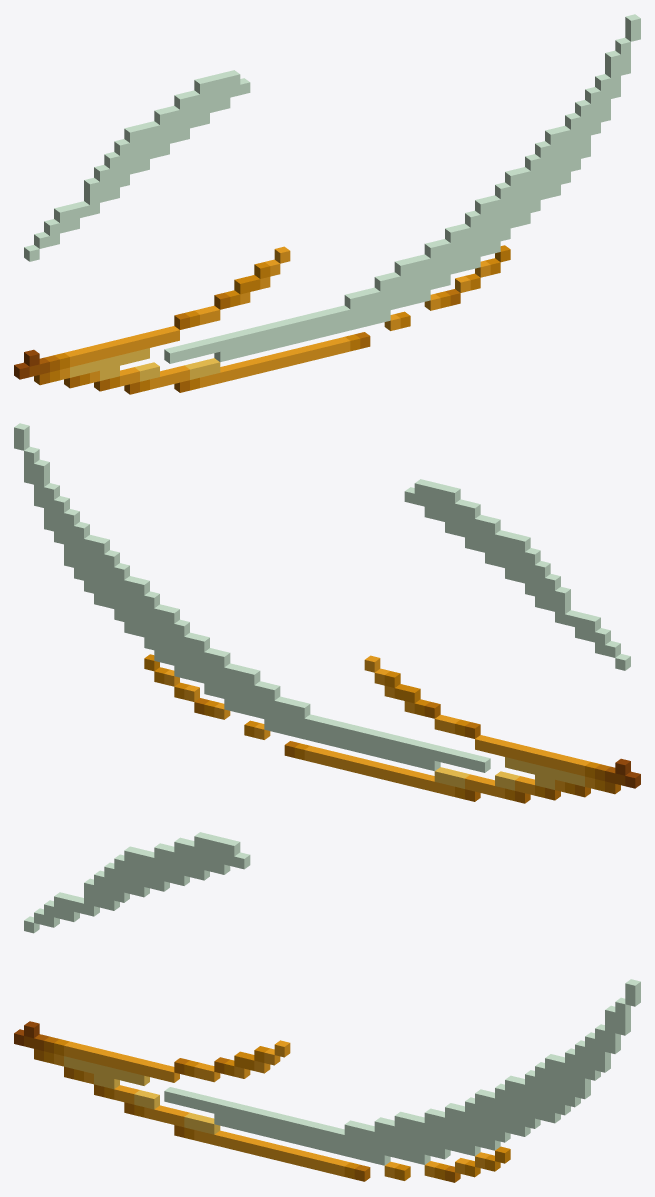
Rendered from Fight_103_2_13_fx.obj.
3 renders of one model, top to bottom at view 1: azimuth 30°, elevation 25°; view 2: azimuth 150°, elevation 25°; view 3: azimuth 330°, elevation 25°, orthographic.
Bounding box in the file's own units: 6.2 × 2.9 × 0.1.
1 material, 1 textured.
